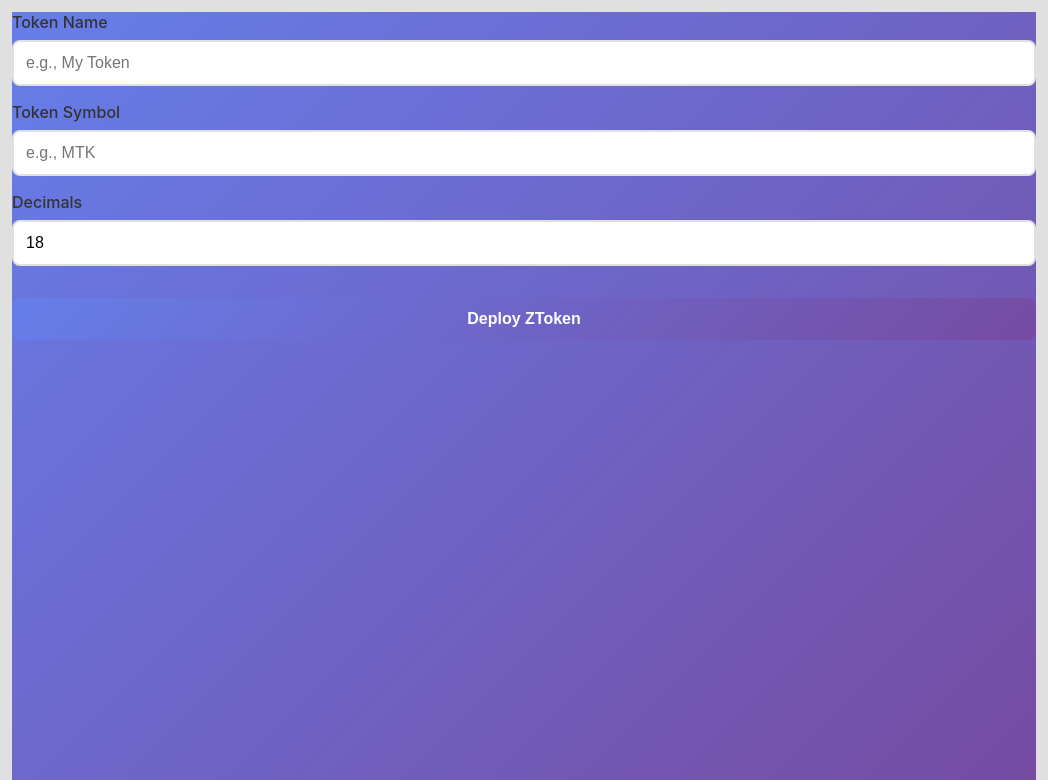
CreateZToken › should show error for invalid decimals
In the field with placeholder "e.g., My Token": (524, 63) [12, 40, 1036, 86], type "Test Token"
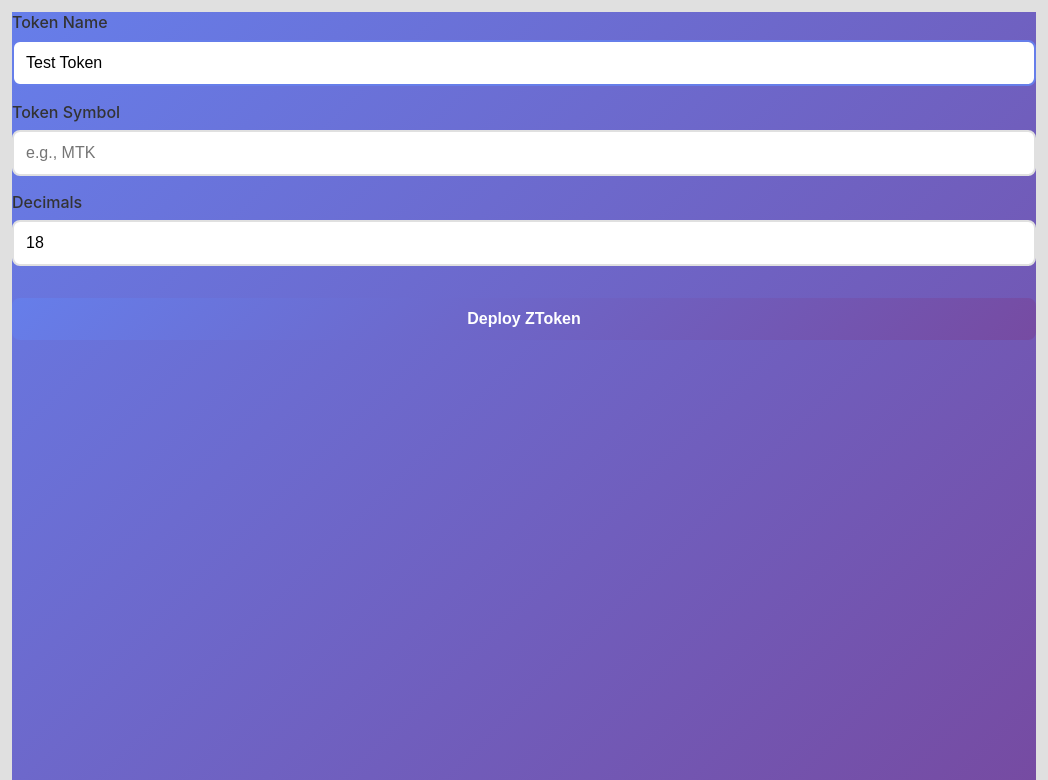
In the field with placeholder "e.g., MTK": (524, 153) [12, 130, 1036, 176], type "TEST"
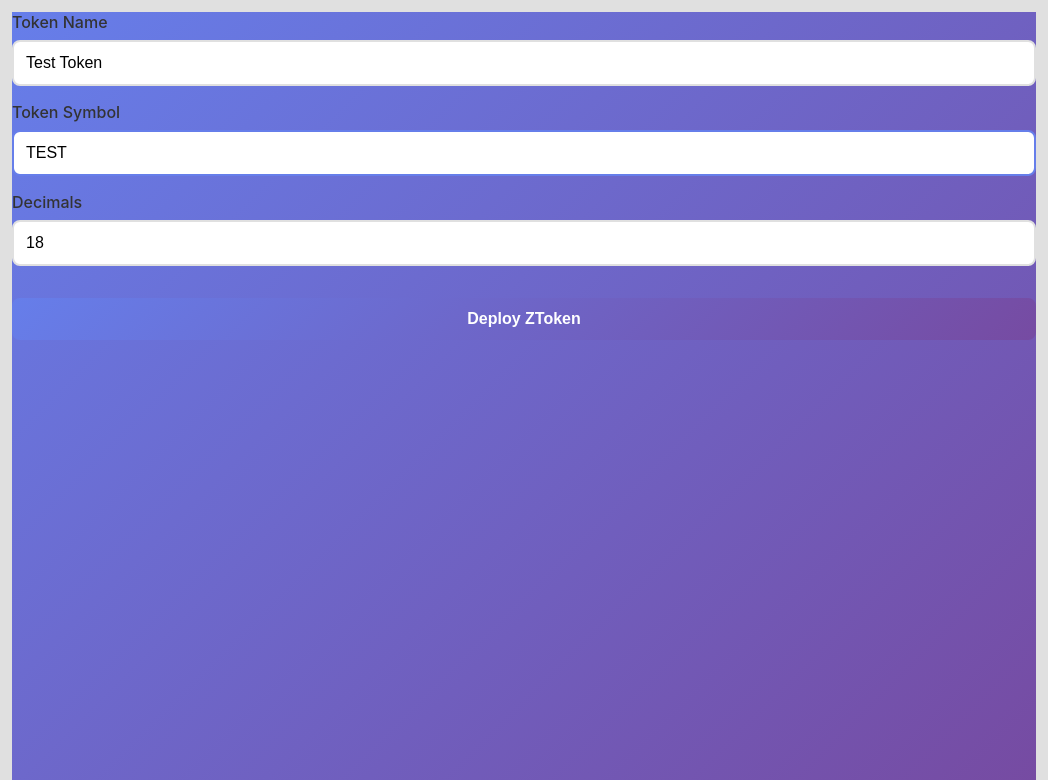
In the number field with placeholder "18": (524, 243) [12, 220, 1036, 266], type "19"
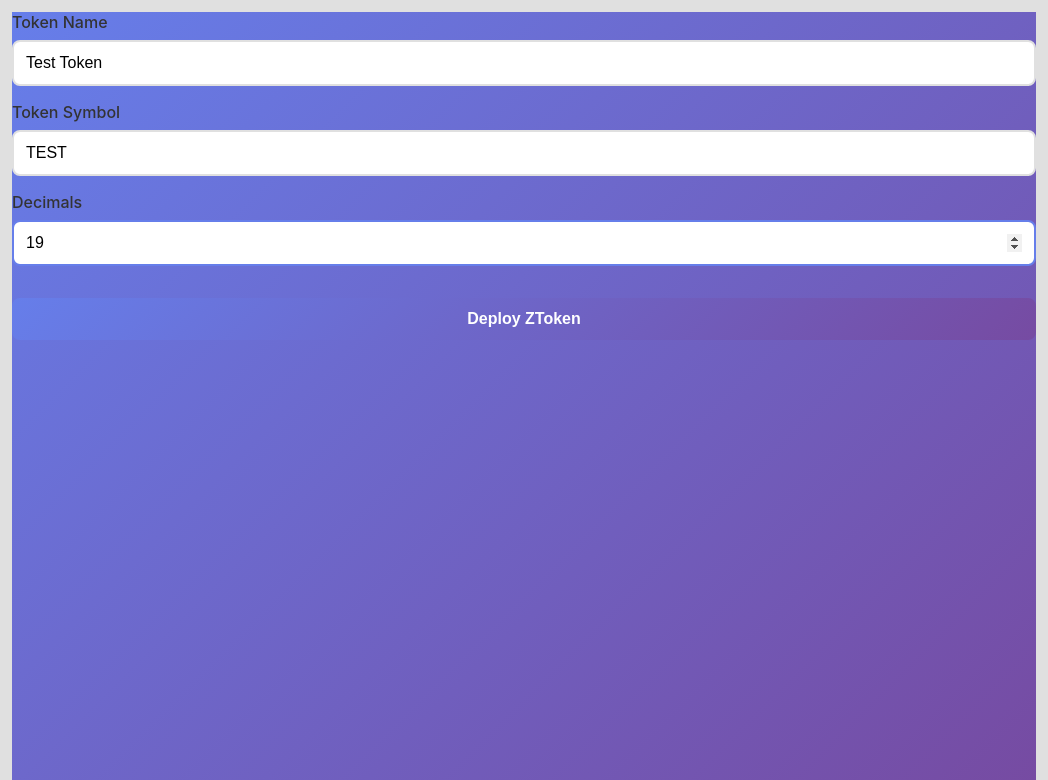
Click the button "Deploy ZToken": (524, 319) [12, 298, 1036, 340]
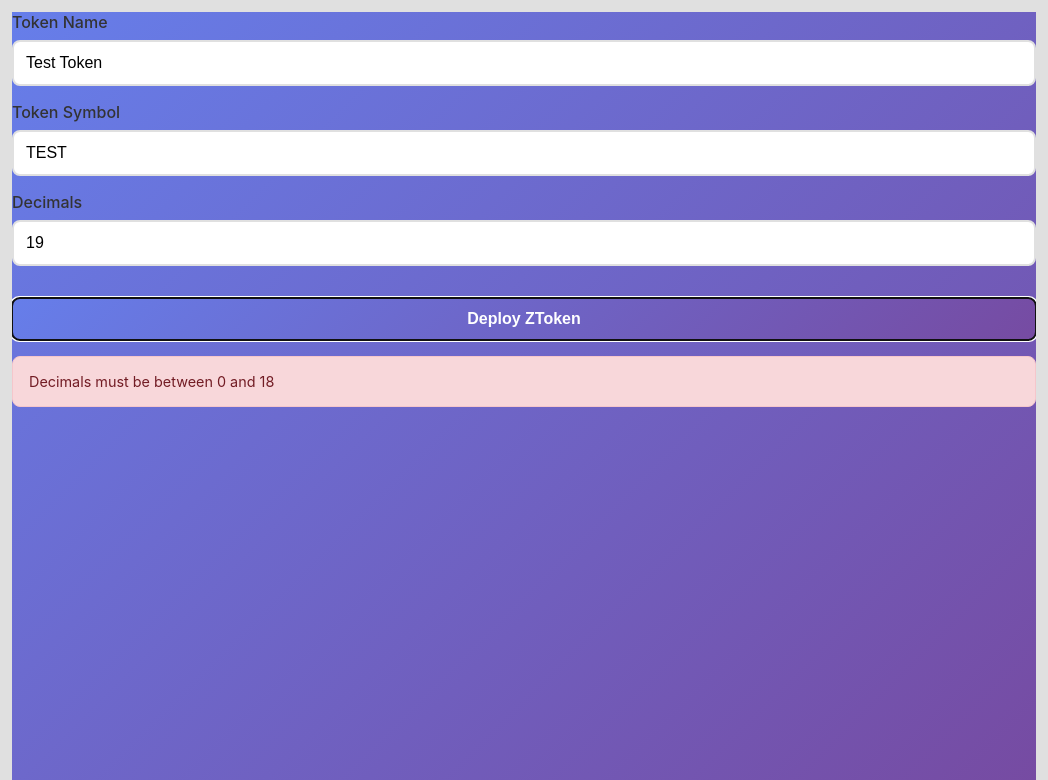
expect the text "Decimals must be between 0 and 18" is shown: met, box [12, 356, 1036, 407]
